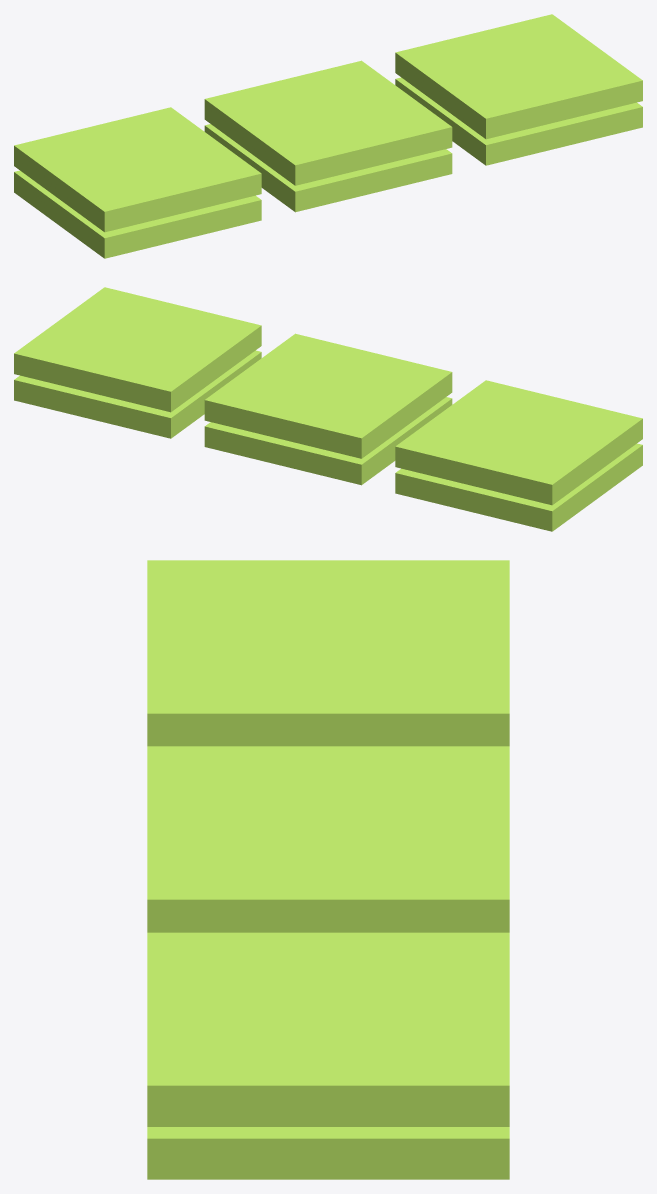
File: sticky-notes.obj
The picture shows the model from 3 angles, top to bottom: view 1: azimuth 30°, elevation 25°; view 2: azimuth 150°, elevation 25°; view 3: azimuth 270°, elevation 25°; orthographic projection. The views are drawn at different scales.
Parts seen in each view (by area): view 1: sticky-note-5, sticky-note-4, sticky-note-6, sticky-note-1, sticky-note-2, sticky-note-3; view 2: sticky-note-5, sticky-note-4, sticky-note-6, sticky-note-1, sticky-note-2, sticky-note-3; view 3: sticky-note-6, sticky-note-4, sticky-note-5, sticky-note-3.
Boxes of the visible parts, x1,y1,x2,y2 form: sticky-note-5: (204, 60, 452, 185); sticky-note-4: (14, 107, 261, 232); sticky-note-6: (395, 14, 642, 139); sticky-note-1: (14, 170, 261, 258); sticky-note-2: (204, 124, 452, 212); sticky-note-3: (395, 77, 642, 165); sticky-note-5: (204, 333, 452, 458); sticky-note-4: (395, 380, 642, 505); sticky-note-6: (14, 287, 261, 412); sticky-note-1: (395, 443, 642, 531); sticky-note-2: (204, 397, 452, 485); sticky-note-3: (14, 350, 261, 438); sticky-note-6: (147, 932, 509, 1126); sticky-note-4: (147, 560, 509, 746); sticky-note-5: (147, 746, 509, 932); sticky-note-3: (147, 1127, 509, 1179).
Size of the model in its own units: 0.96 by 0.08 by 0.28.
